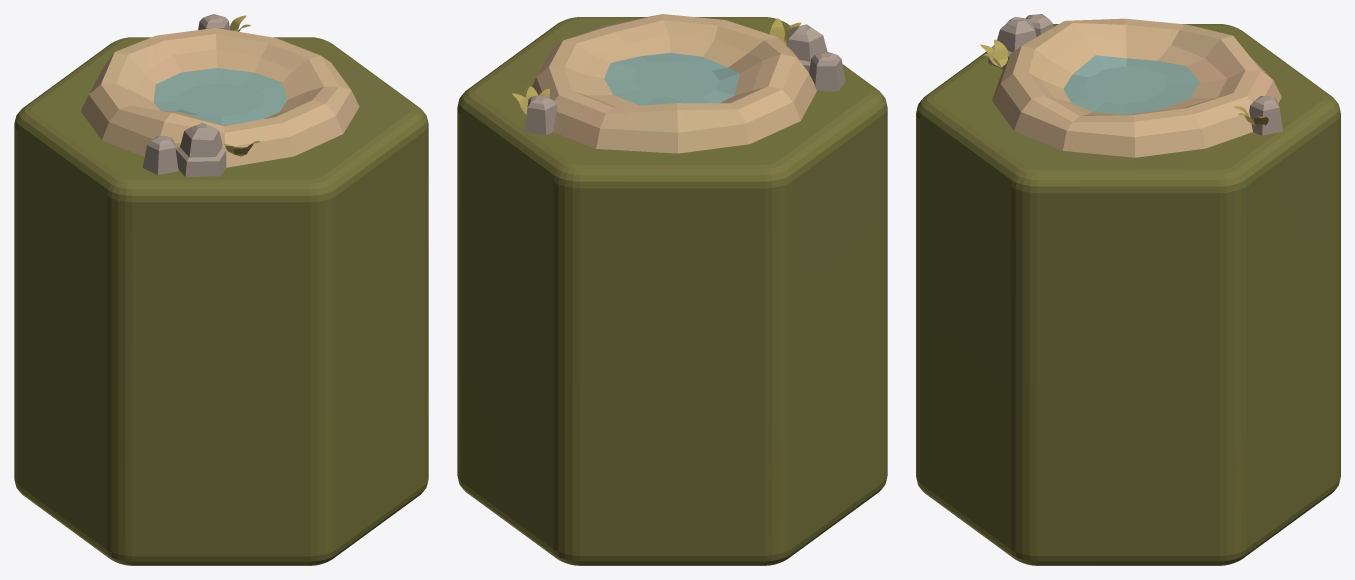
Rendered from Hex-projects.glb.
The picture shows the model from 3 angles, left to right: view 1: azimuth 30°, elevation 25°; view 2: azimuth 150°, elevation 25°; view 3: azimuth 270°, elevation 25°; orthographic projection. The views are drawn at different scales.
Parts seen in each view (by area): view 1: Cylinder, Sphere.029_Material.001_0; view 2: Cylinder, Sphere.029_Material.001_0; view 3: Cylinder, Sphere.029_Material.001_0.
Part boxes in pixels (x1=…): Cylinder: x1=14, y1=37, x2=428, y2=565; Sphere.029_Material.001_0: x1=81, y1=14, x2=359, y2=176; Cylinder: x1=457, y1=17, x2=887, y2=565; Sphere.029_Material.001_0: x1=512, y1=14, x2=845, y2=153; Cylinder: x1=916, y1=24, x2=1340, y2=565; Sphere.029_Material.001_0: x1=980, y1=14, x2=1282, y2=157.
Size of the model in its own units: 1.73 by 2.21 by 1.95.
Materials: 2 (2 with a texture image).
